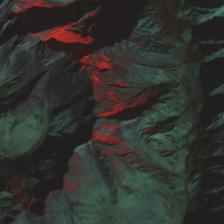landslides: (71, 0, 110, 36), (33, 0, 83, 27)
